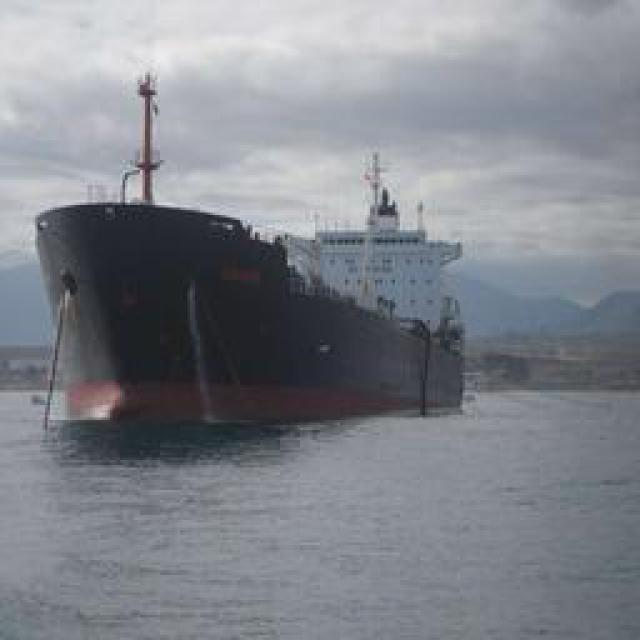Ship: (29, 169, 469, 439)
